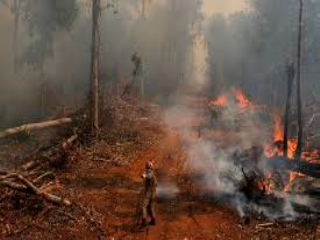fire: (260, 119, 306, 160), (253, 171, 303, 195), (213, 87, 254, 111)
